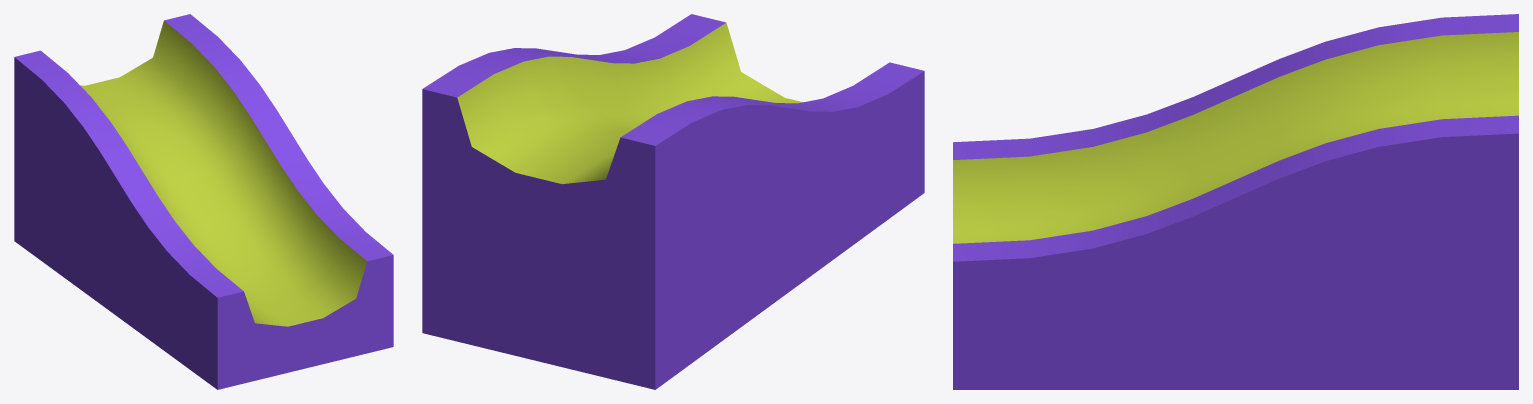
Rendered from ramp_long_solid_B-col.dae.
3 views of the same model, side by side, from view 1: azimuth 30°, elevation 25°; view 2: azimuth 150°, elevation 25°; view 3: azimuth 270°, elevation 25° (orthographic). The views are drawn at different scales.
Parts seen in each view (by area): view 1: ramp_long_solid_B-col; view 2: ramp_long_solid_B-col; view 3: ramp_long_solid_B-col.
Boxes of the visible parts, left/top/right/bottom form: ramp_long_solid_B-col: left=14, top=14, right=393, bottom=389; ramp_long_solid_B-col: left=422, top=14, right=924, bottom=389; ramp_long_solid_B-col: left=953, top=14, right=1518, bottom=389.
Size of the model in its own units: 1 by 2 by 1.
